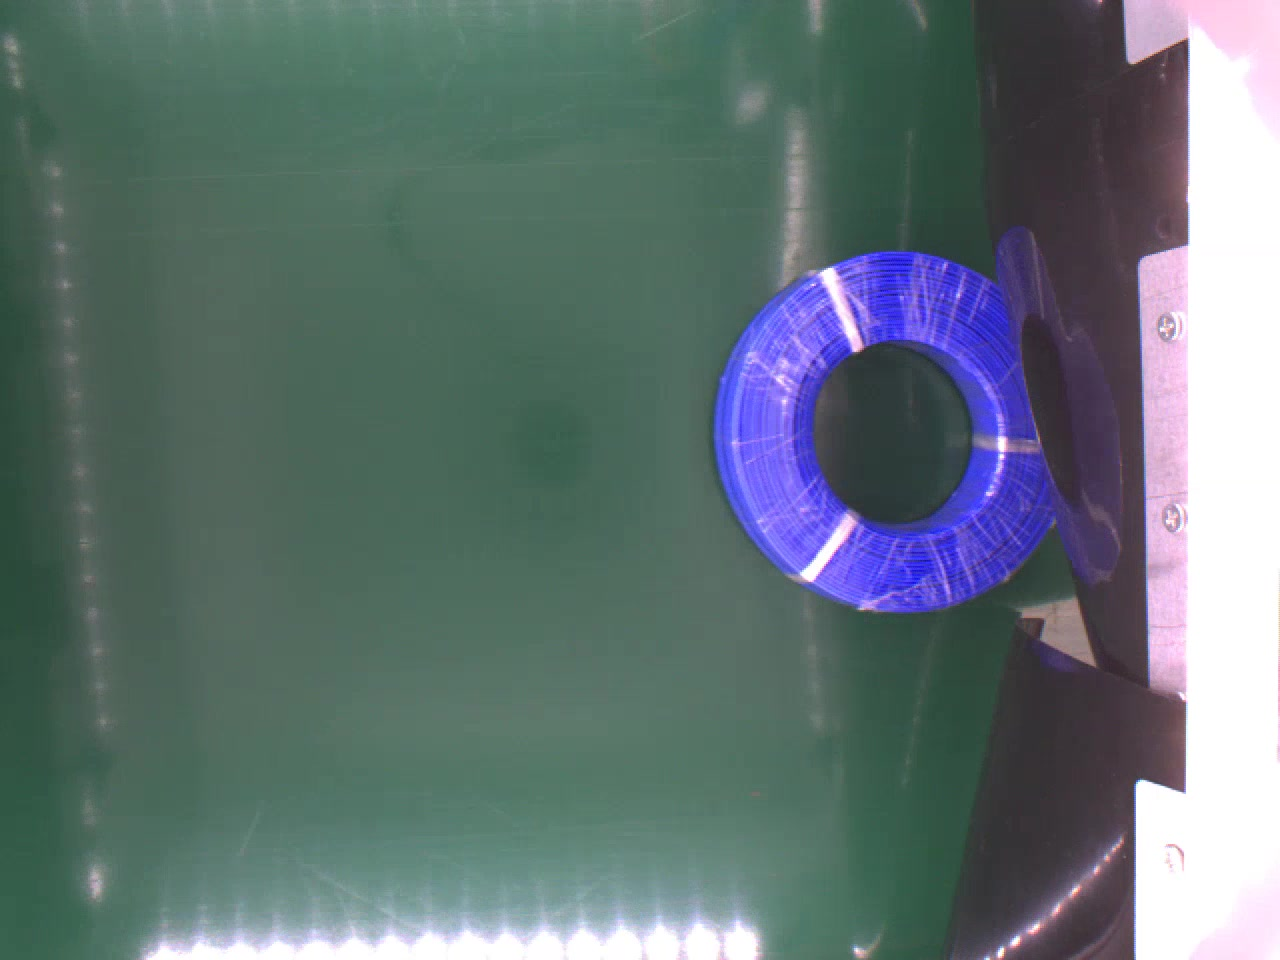blue: (715, 247, 1064, 619)
